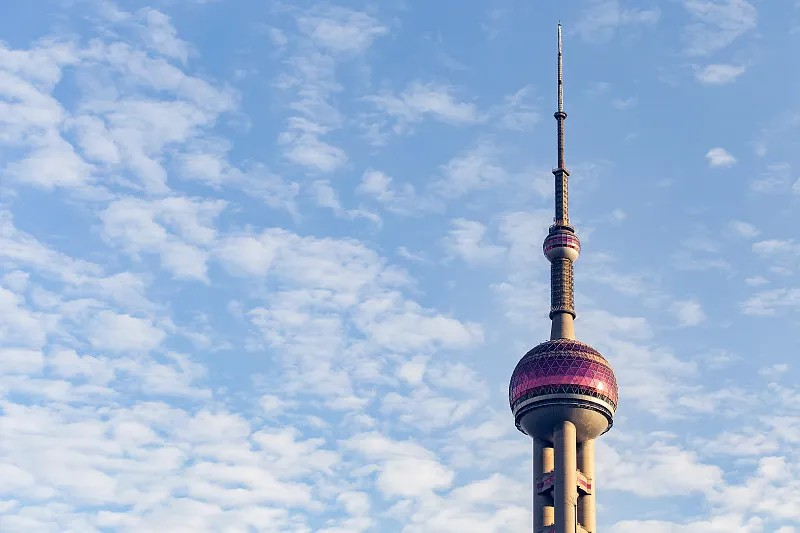Oriental: (508, 22, 620, 533)
